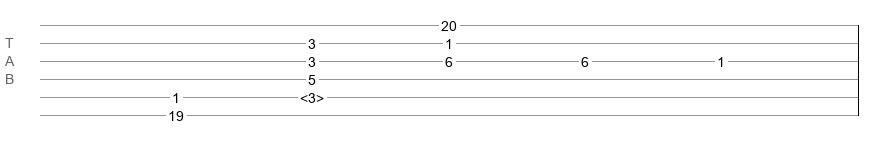1: (172, 90, 180, 100), (445, 36, 453, 46), (717, 54, 725, 64)
19: (168, 108, 184, 118)
20: (441, 18, 457, 28)
3: (308, 54, 316, 64), (308, 36, 316, 46)
5: (308, 72, 316, 82)
6: (445, 54, 453, 64), (581, 54, 589, 64)
harmonic: (300, 90, 324, 100)
